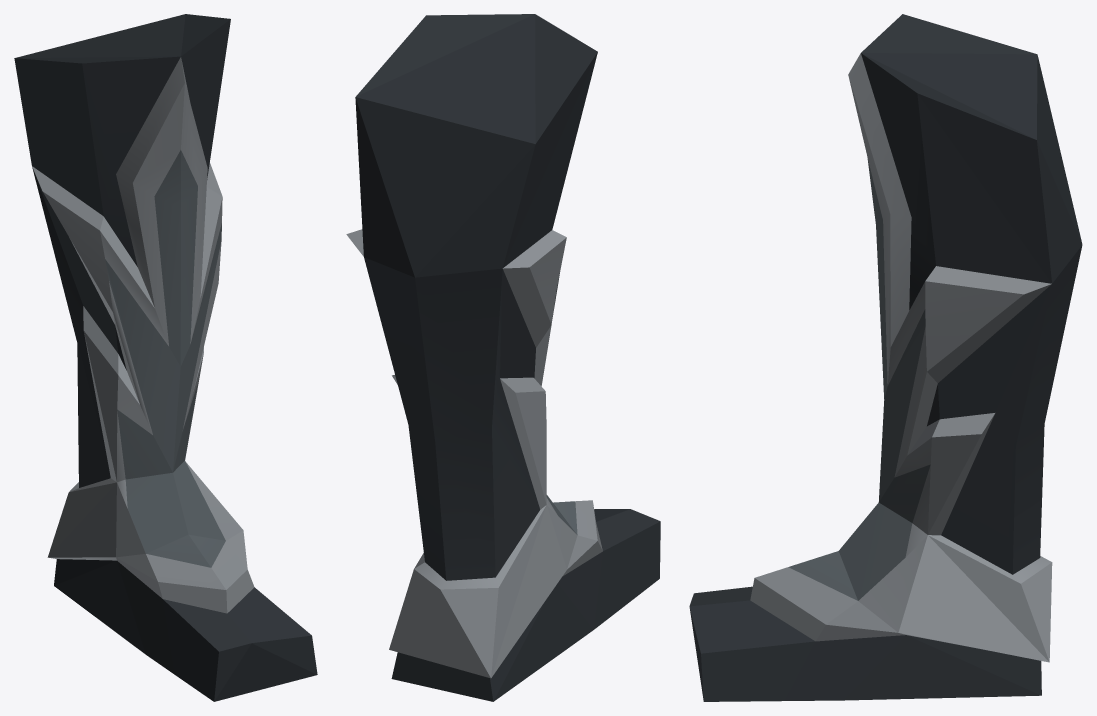
File: Chr_LegLeft_Female_12_Static.fbx
3 views of the same model, side by side, from view 1: azimuth 30°, elevation 25°; view 2: azimuth 150°, elevation 25°; view 3: azimuth 270°, elevation 25° (orthographic). The views are drawn at different scales.
Visible parts, largest first — view 1: Chr_LegLeft_Female_12_Static; view 2: Chr_LegLeft_Female_12_Static; view 3: Chr_LegLeft_Female_12_Static.
Part boxes in pixels (x1=…): Chr_LegLeft_Female_12_Static: x1=14, y1=14, x2=317, y2=701; Chr_LegLeft_Female_12_Static: x1=346, y1=14, x2=660, y2=701; Chr_LegLeft_Female_12_Static: x1=689, y1=14, x2=1082, y2=701.
Bounding box in the file's own units: 0.1355 × 0.4043 × 0.2336.
